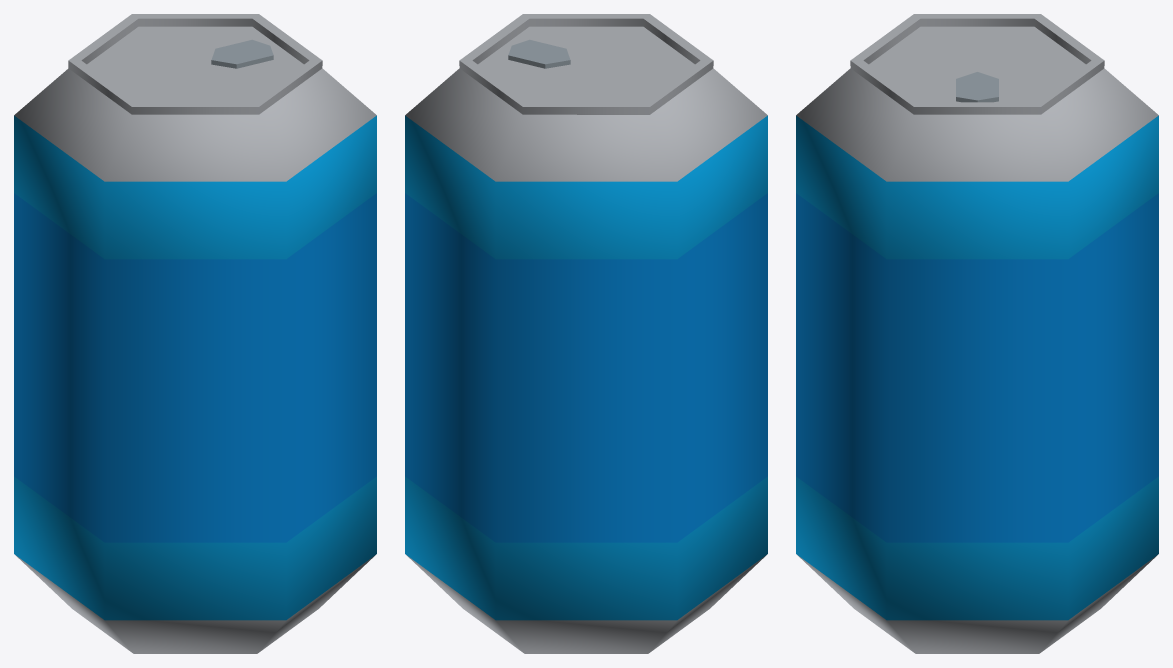
Rendered from blue_can.fbx.
The picture shows the model from 3 angles, left to right: view 1: azimuth 30°, elevation 25°; view 2: azimuth 150°, elevation 25°; view 3: azimuth 270°, elevation 25°; orthographic projection.
Visible parts, largest first — view 1: Blue_can; view 2: Blue_can; view 3: Blue_can.
Boxes of the visible parts, x1=… form: Blue_can: x1=14, y1=14, x2=376, y2=653; Blue_can: x1=405, y1=14, x2=767, y2=653; Blue_can: x1=796, y1=14, x2=1158, y2=653.
Bounding box in the file's own units: 0.3796 × 0.4384 × 0.7306.
